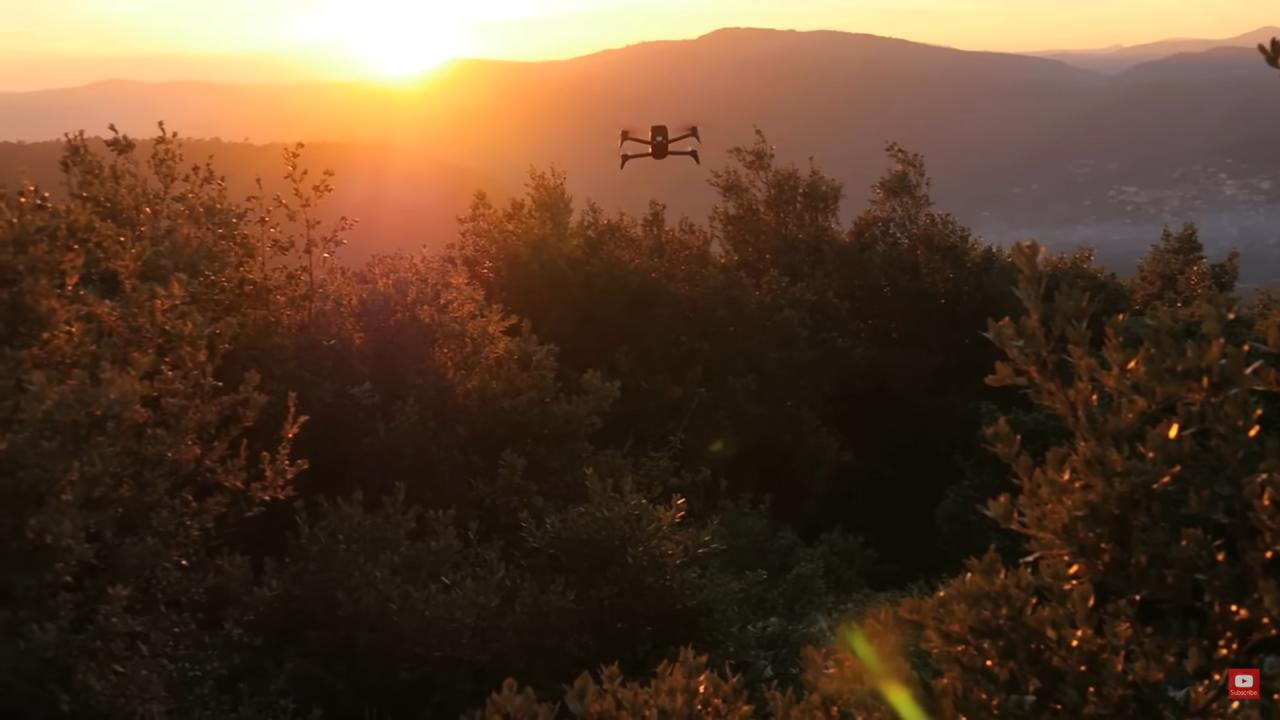Drone: (613, 110, 710, 182)
